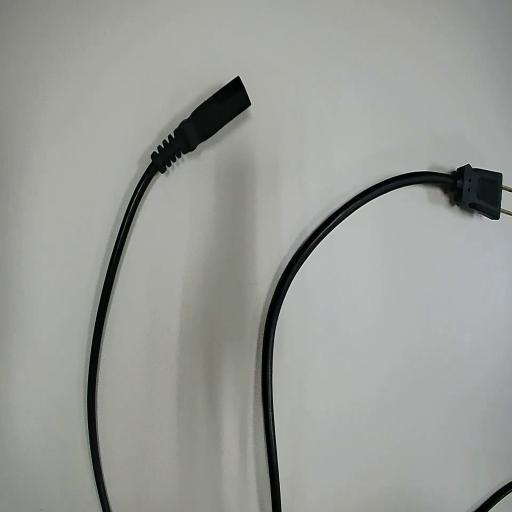wire: (261, 166, 501, 511), (87, 78, 249, 511)
